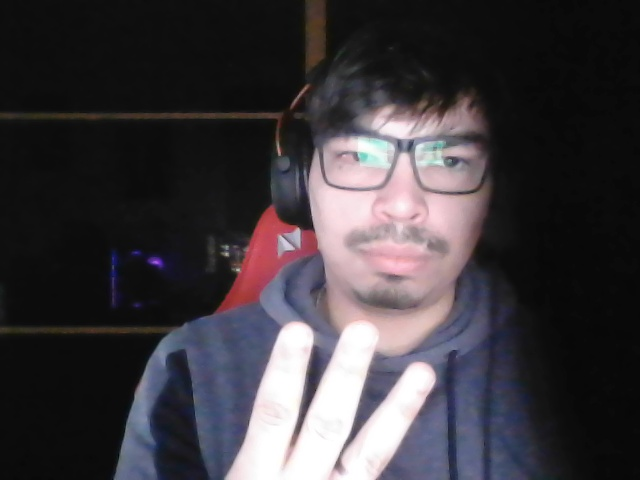three: (221, 301, 448, 480)
